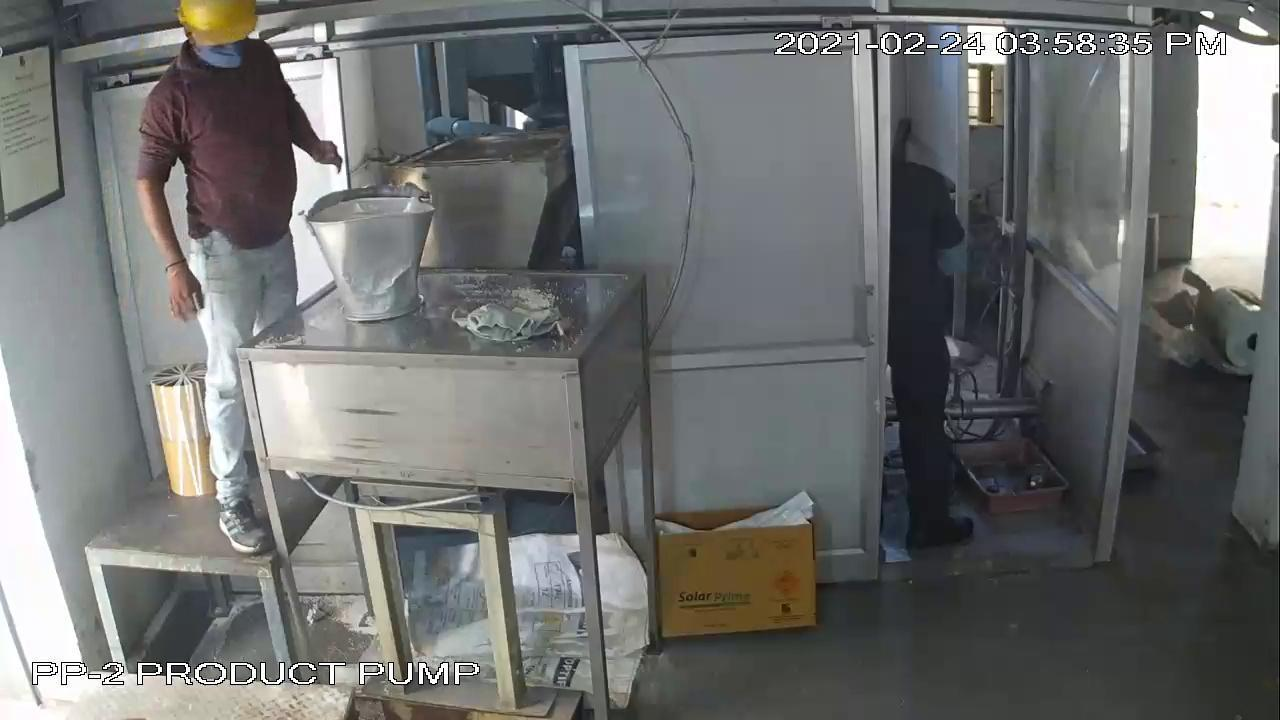helmet: (161, 1, 272, 65)
